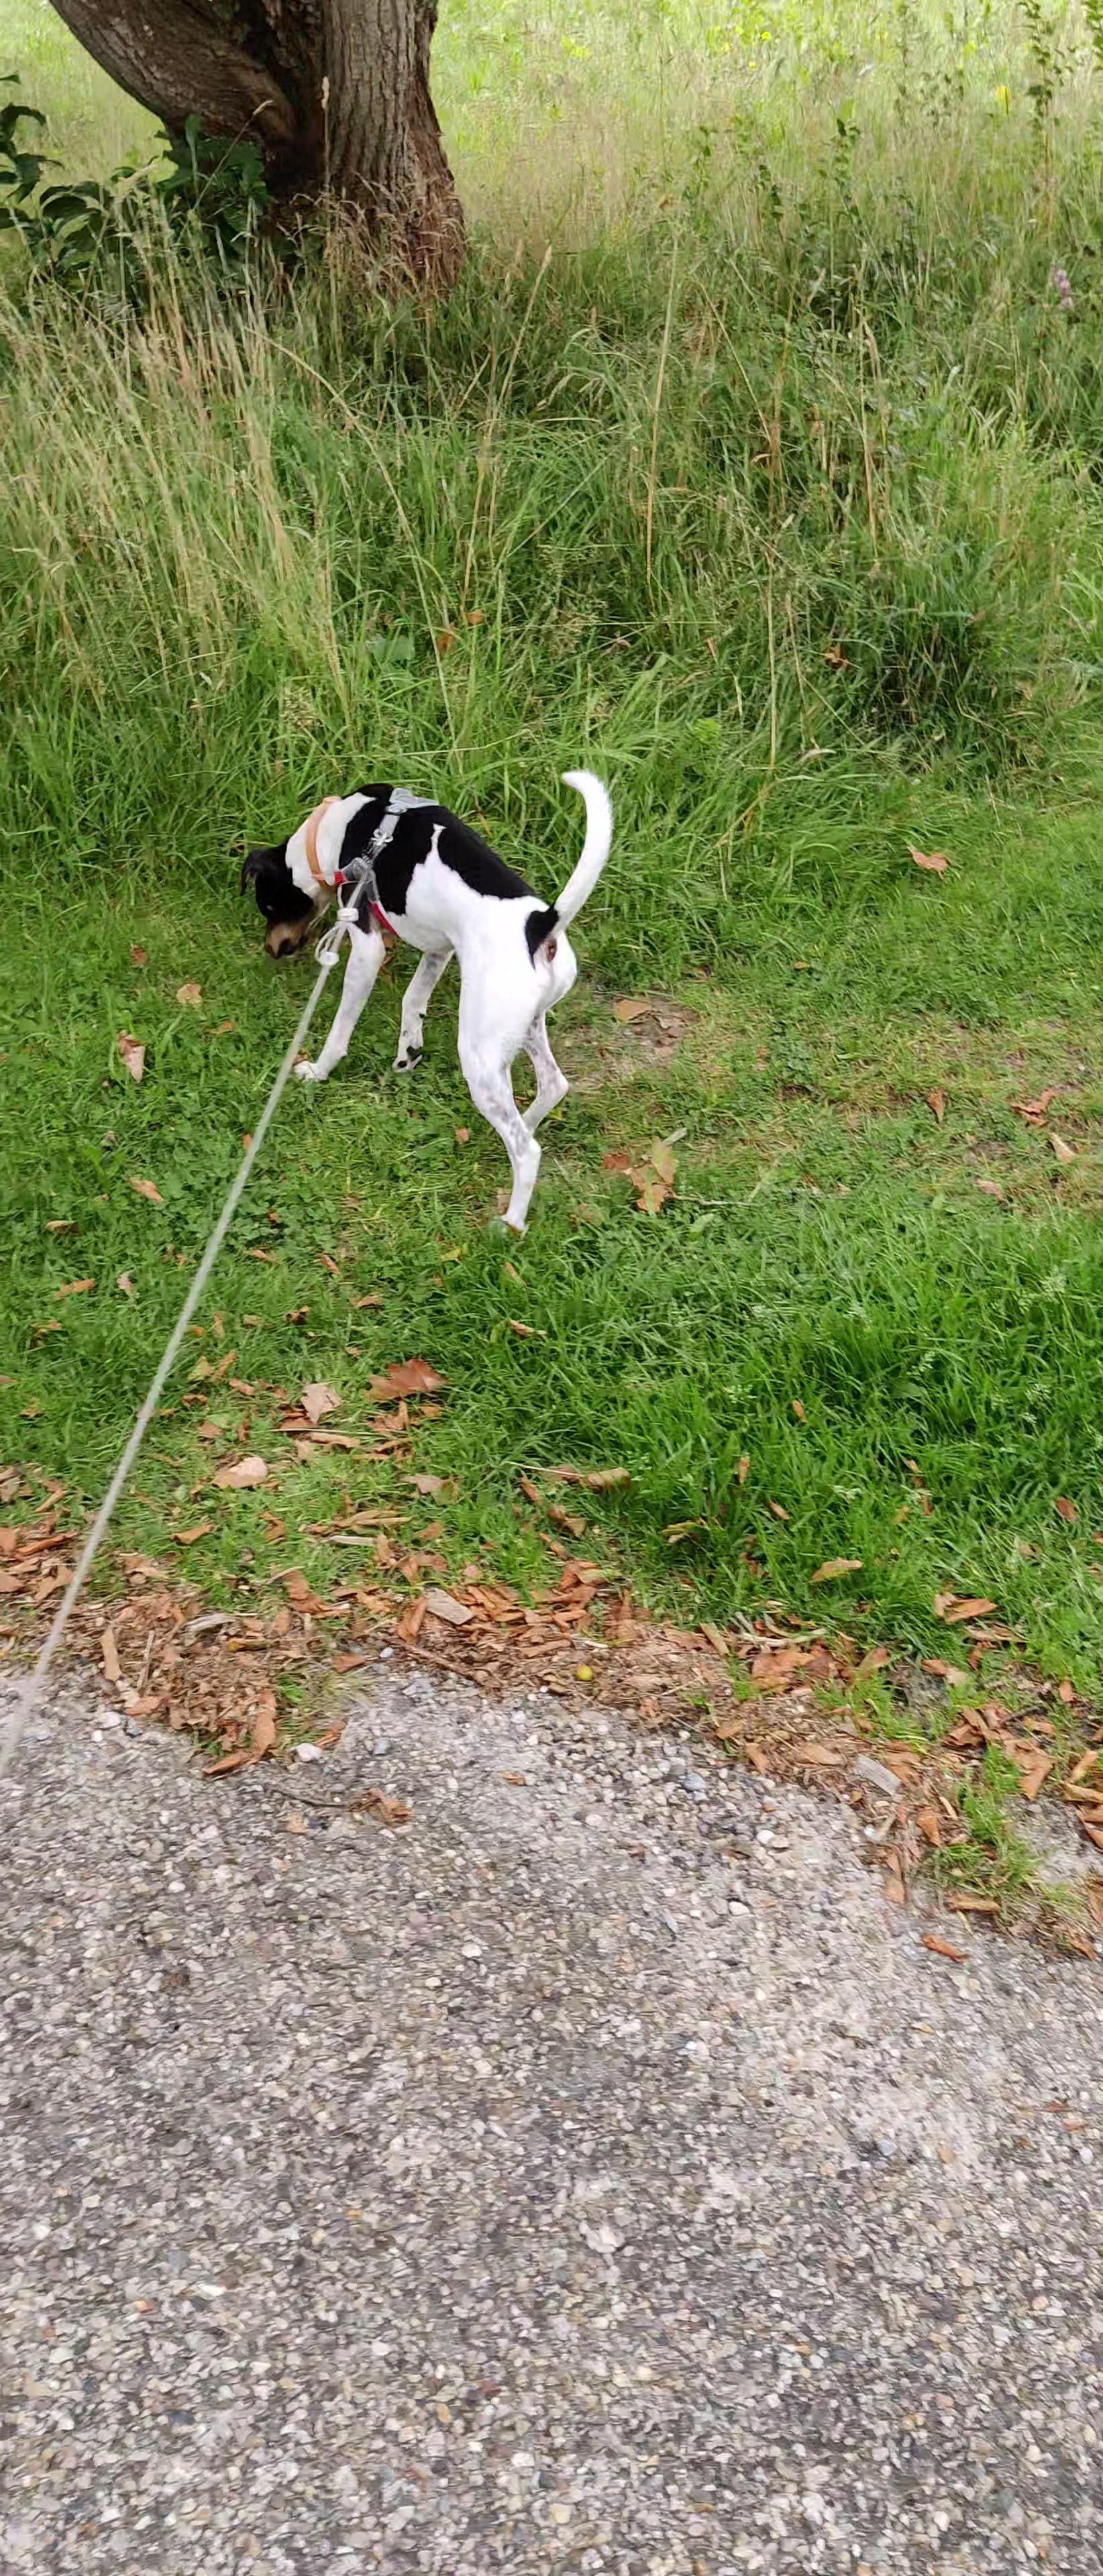Dog: (230, 761, 618, 1234)
